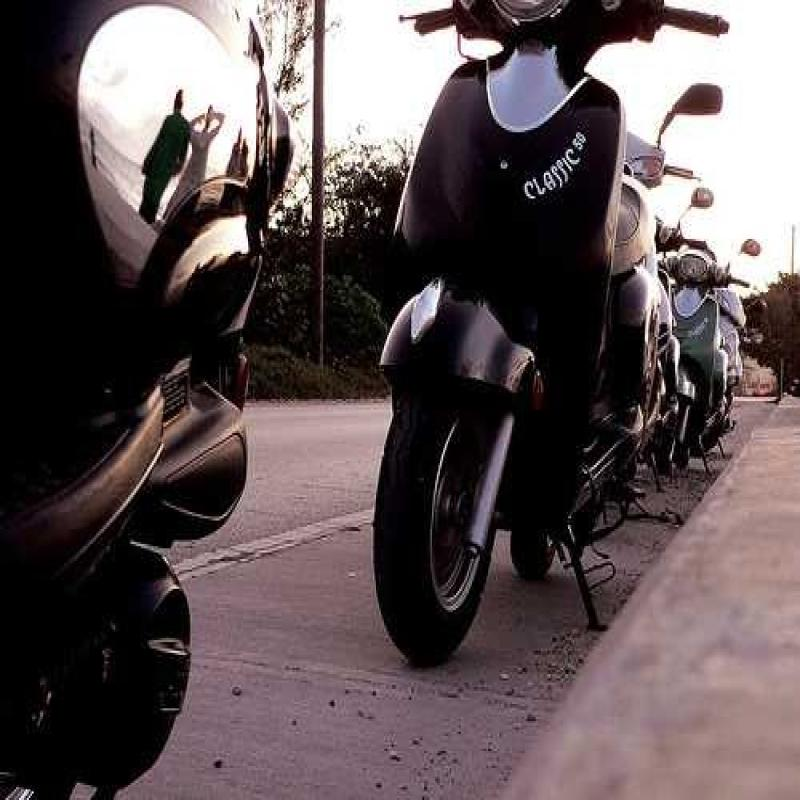bike: (354, 0, 678, 668)
